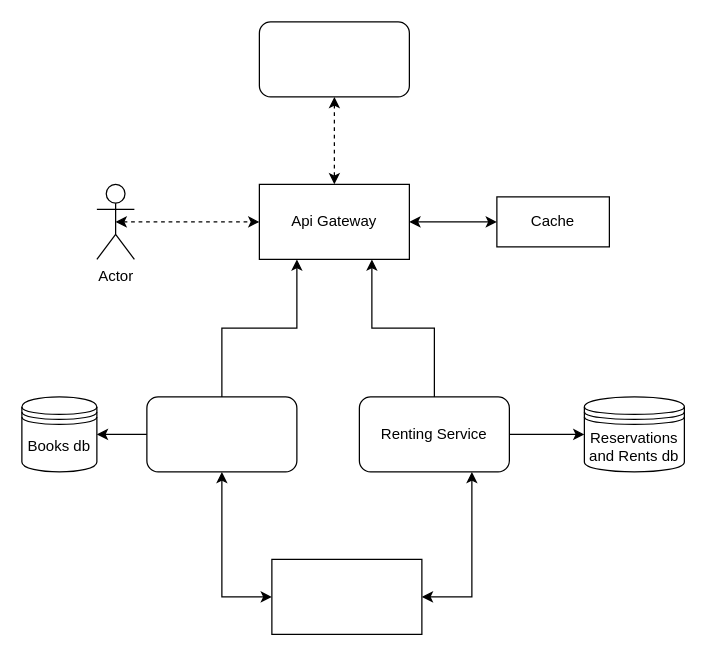
The diagram is 706 pixels wide and 656 high, and some of its shapes have lost their labels. The shapes that lost their labels are listed below. From the top down, each one's centre as x and y in pixels, then its label:
At [333,59]: "Service Discovery".
At [221,434]: "Inventory Service".
At [346,596]: "Kafka".
